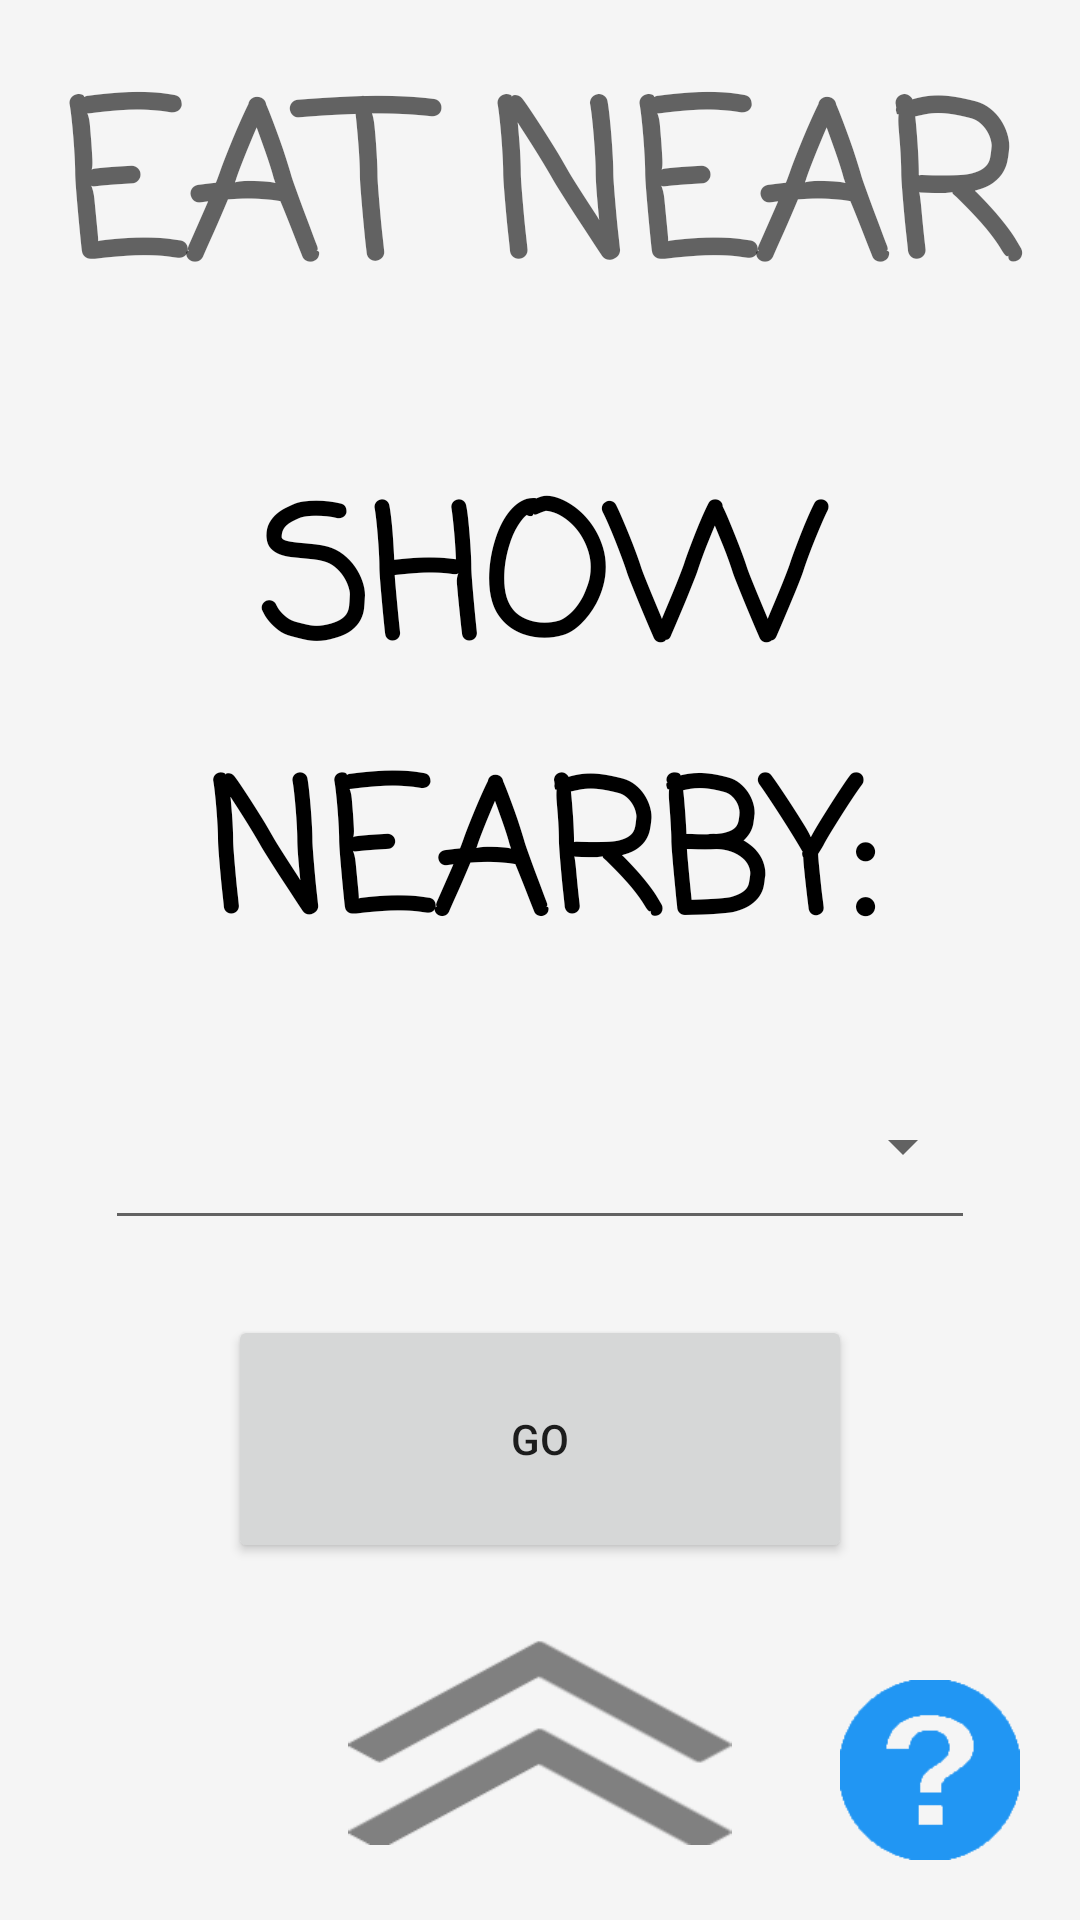

Screen size 1080px x 1920px. Icon name, then its box in pixels as {"left": x1, "top": y1, "right": x2, "bottom": y2}:
question mark: {"left": 840, "top": 1680, "right": 1020, "bottom": 1860}
